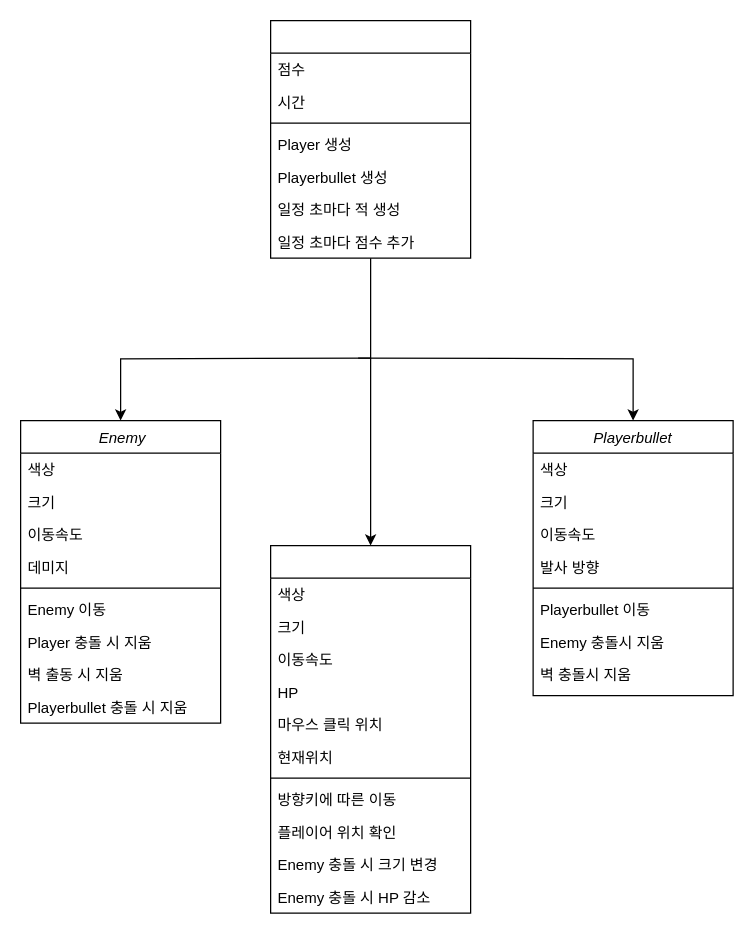
Image size: 754x934. Some labels were removed from this diagram. Each missing label, with the box of its shape:
GameManager: (269, 19, 471, 258)
Player: (269, 544, 471, 913)
